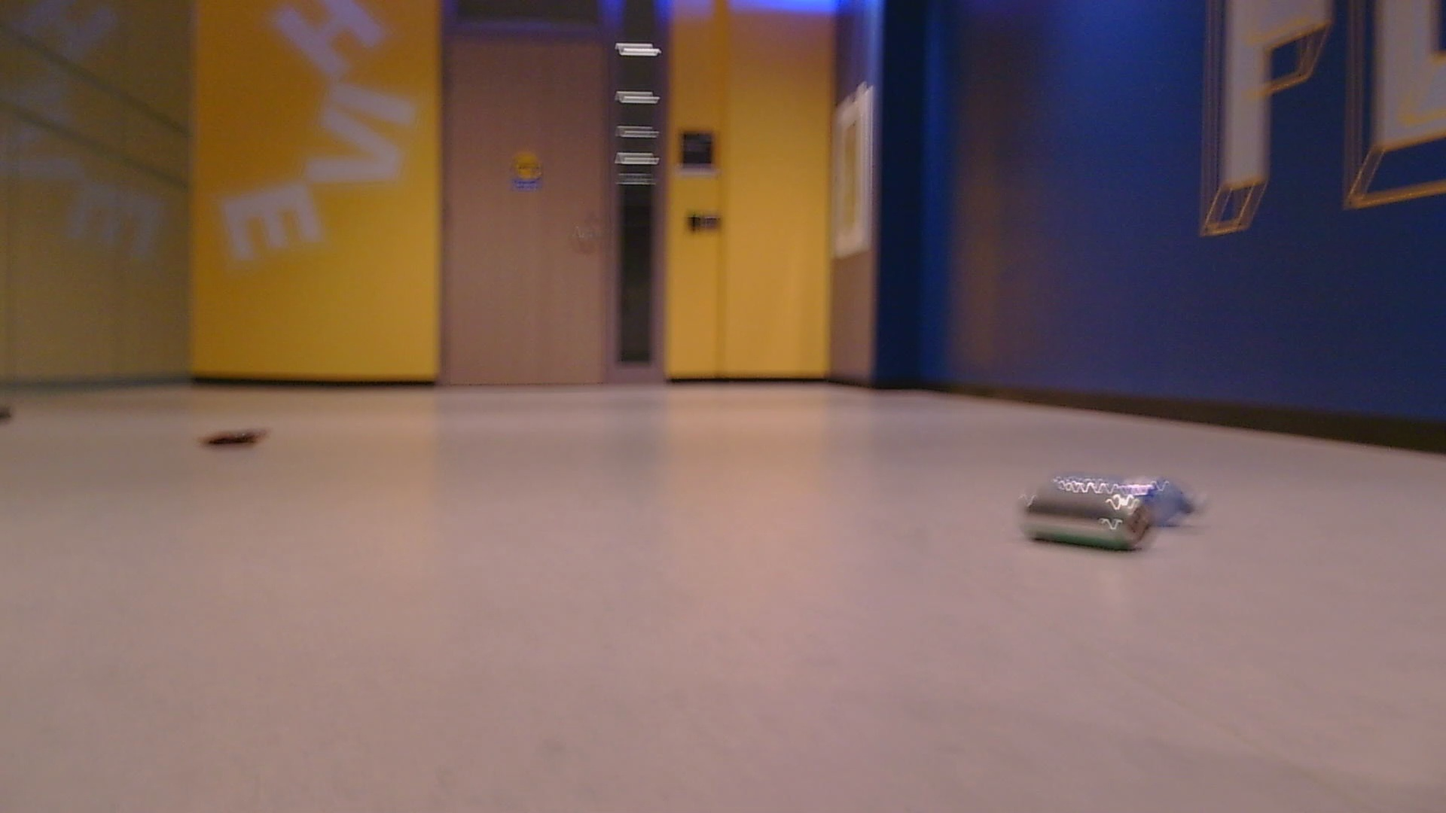can: (1019, 467, 1207, 551), (187, 404, 279, 454)
